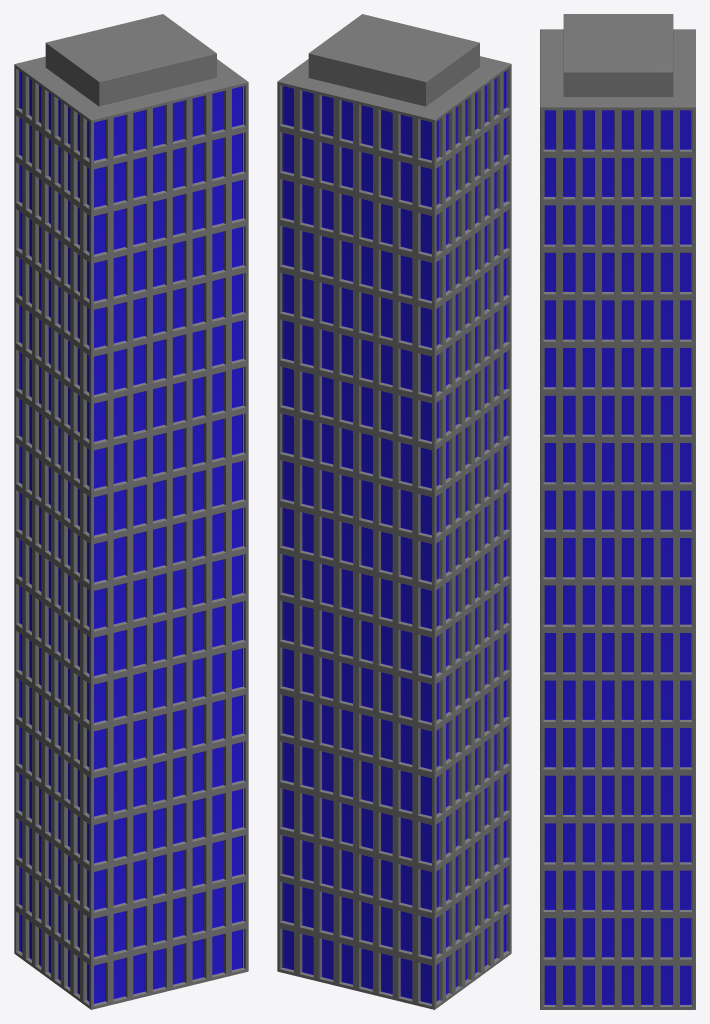
Rendered from SM_Building02.fbx.
3 views of the same model, side by side, from view 1: azimuth 30°, elevation 25°; view 2: azimuth 150°, elevation 25°; view 3: azimuth 270°, elevation 25° (orthographic).
Parts seen in each view (by area): view 1: SM_Building02; view 2: SM_Building02; view 3: SM_Building02.
Boxes of the visible parts, x1,y1,x2,y2 form: SM_Building02: (14,14,248,1009); SM_Building02: (277,14,511,1009); SM_Building02: (540,14,695,1009).
Bounding box in the file's own units: 519 × 2880 × 439.
